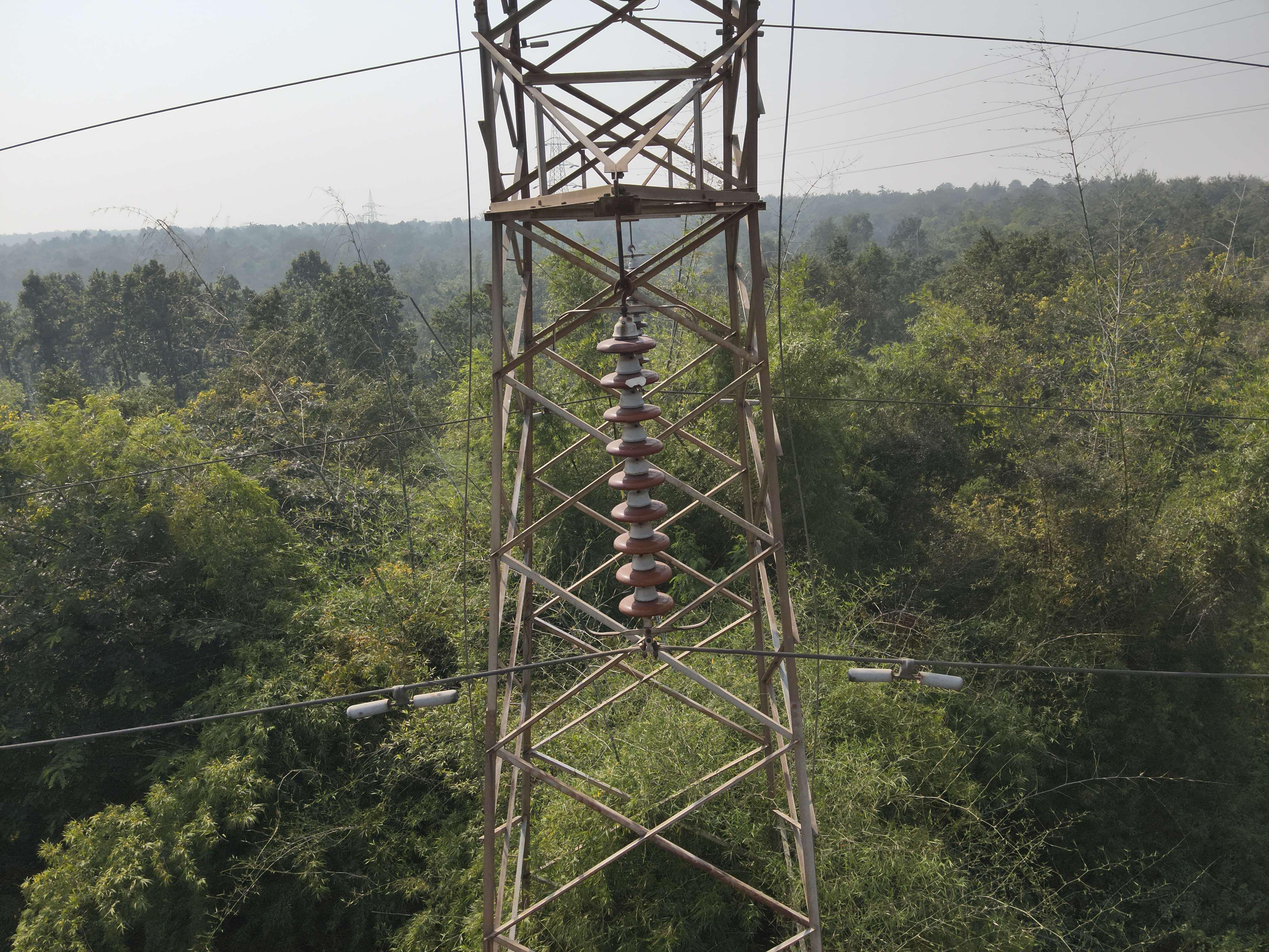broken_insulator: (597, 366, 662, 397)
